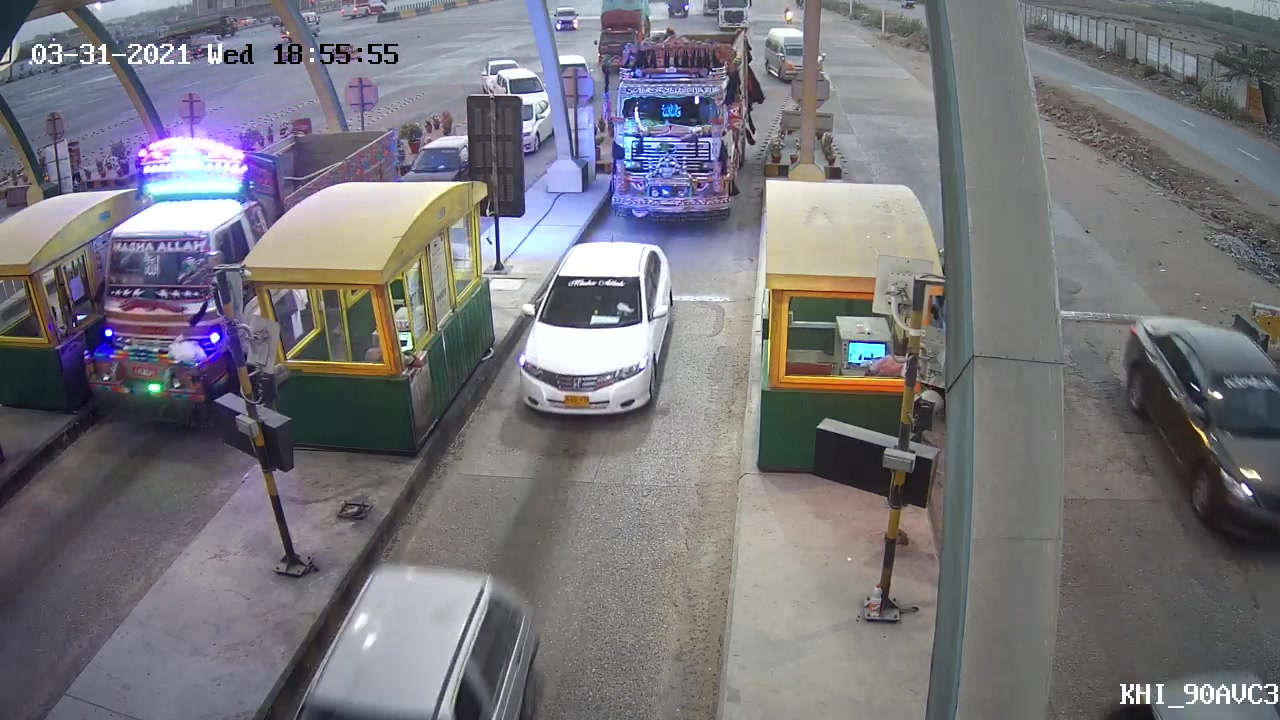F1: (511, 238, 676, 418)
F5: (602, 36, 756, 221)
